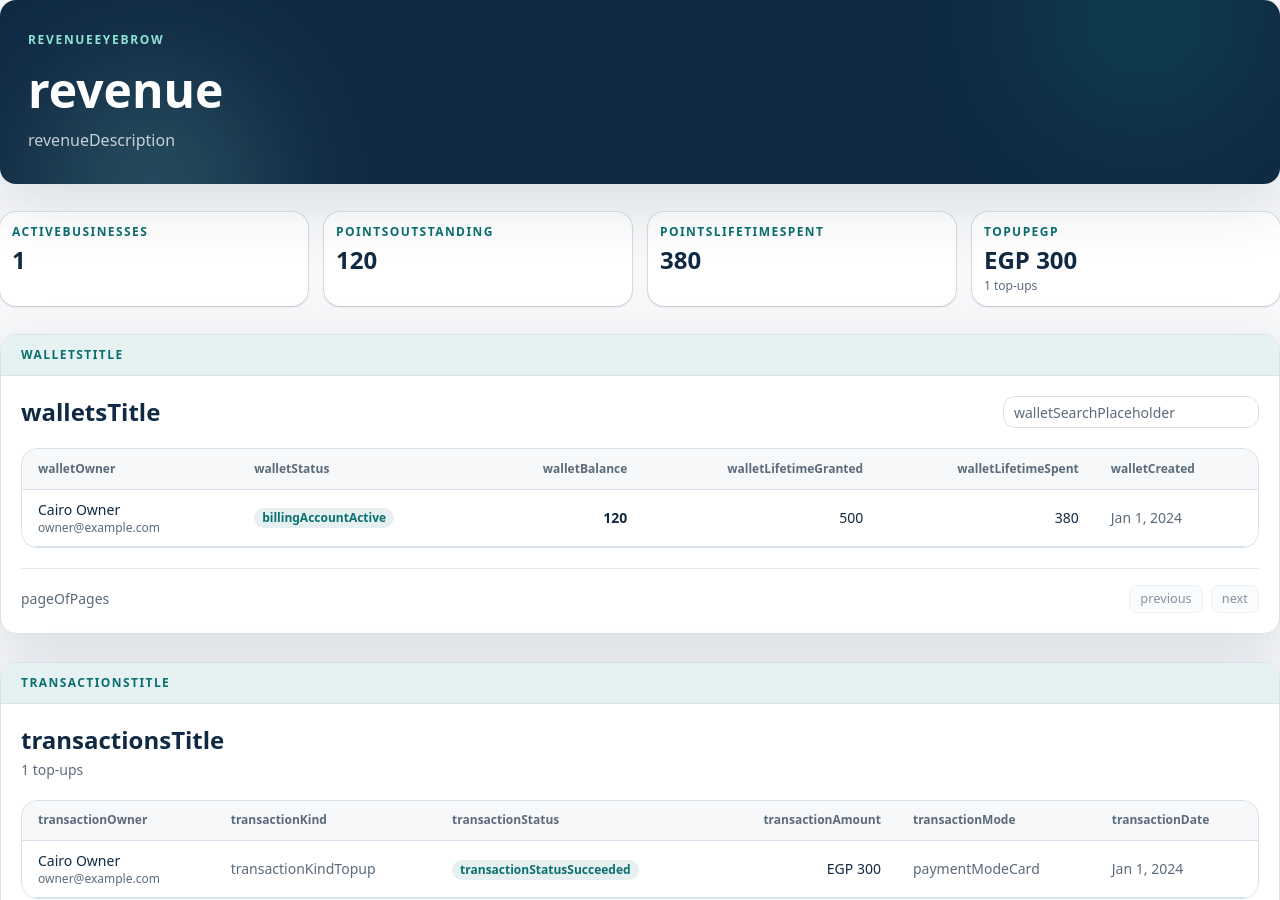
it: AdminRevenuePage › top-ups the selected wallet and refreshes the data
The image size is (1280, 900).
Click the text "owner@example.com" below "walletOwner": click(99, 527) [38,518,160,536]
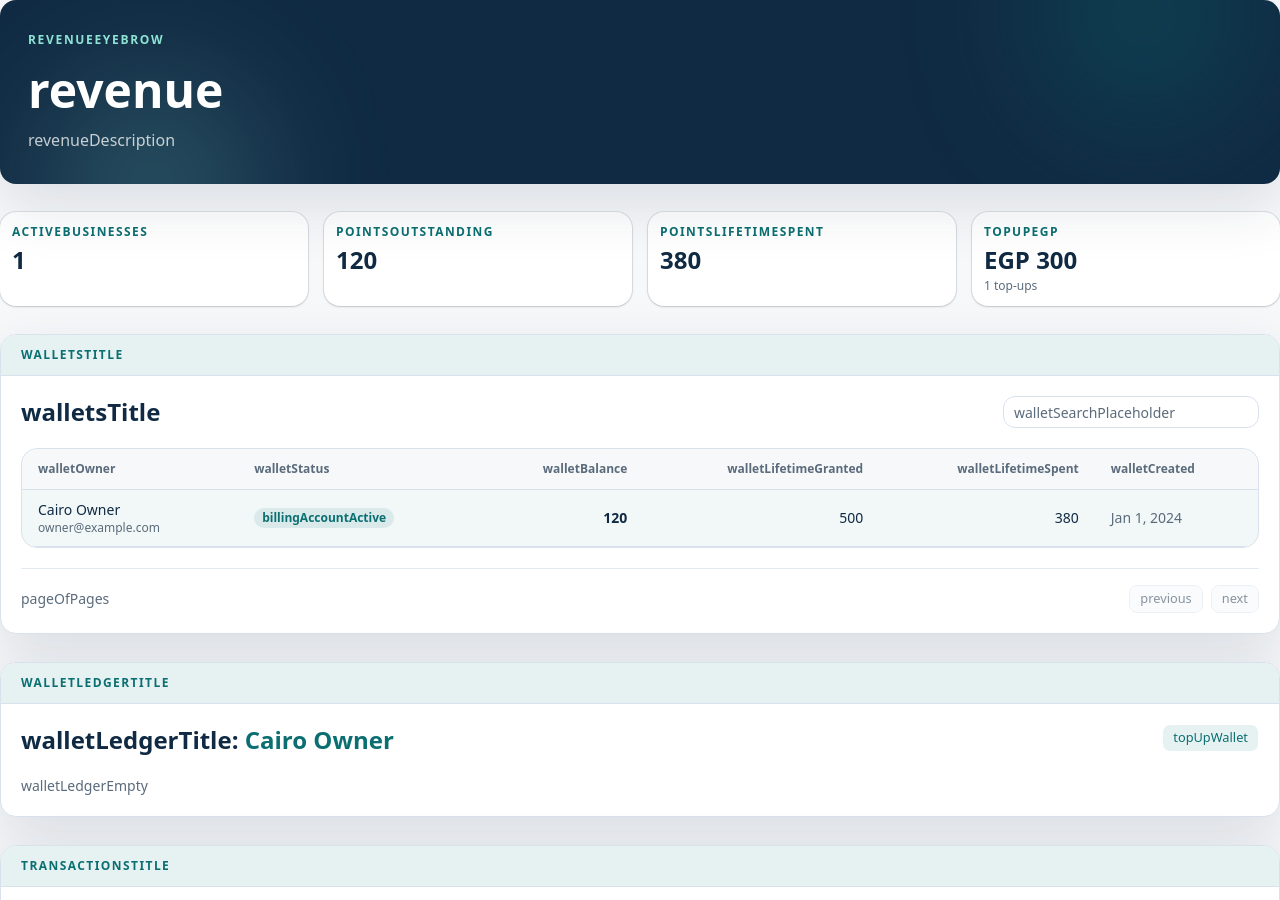
Click the button "topUpWallet": click(1211, 738) [1162,724,1259,752]
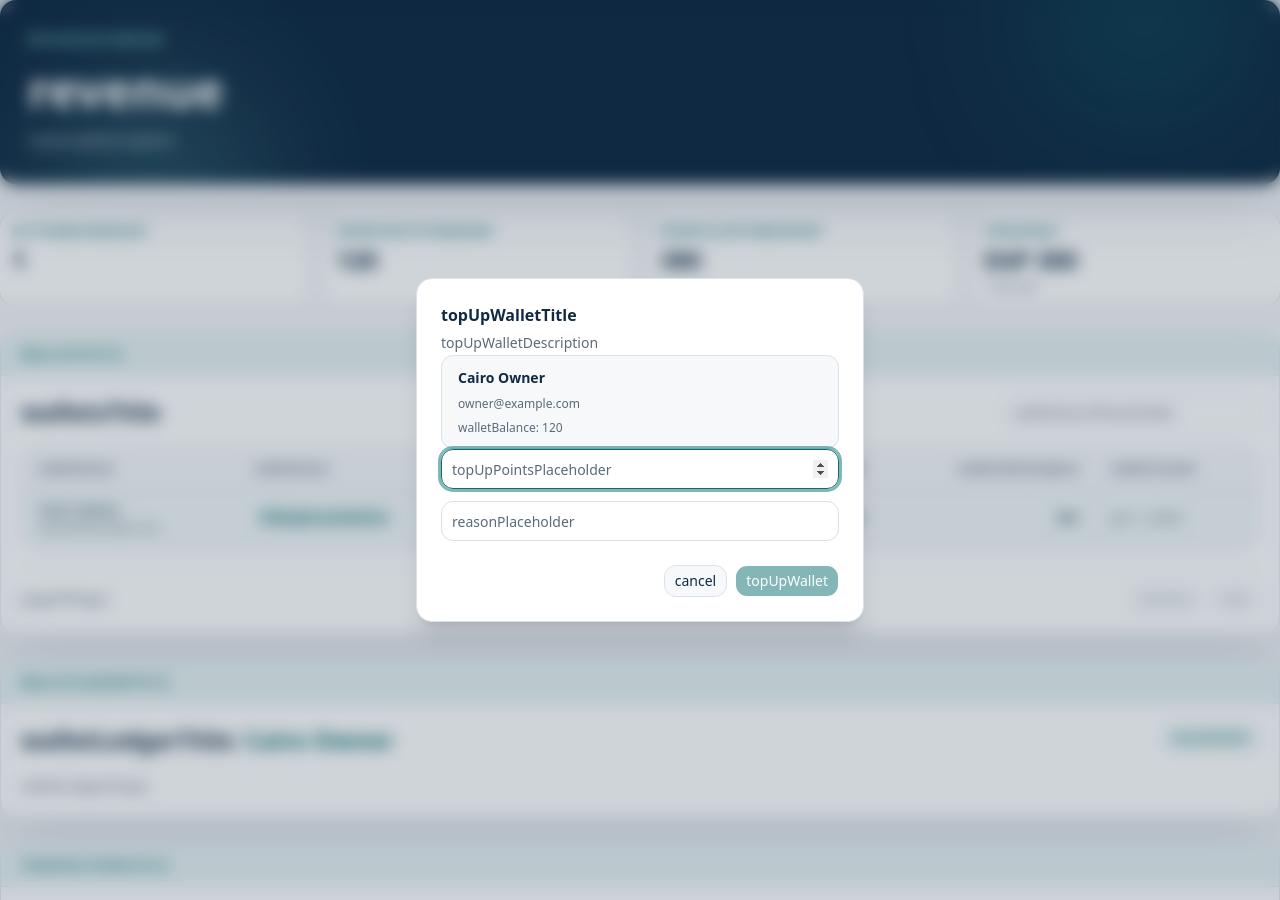
In the number field named "topUpPointsLabel": (640, 469) [441,449,839,489], type "50"
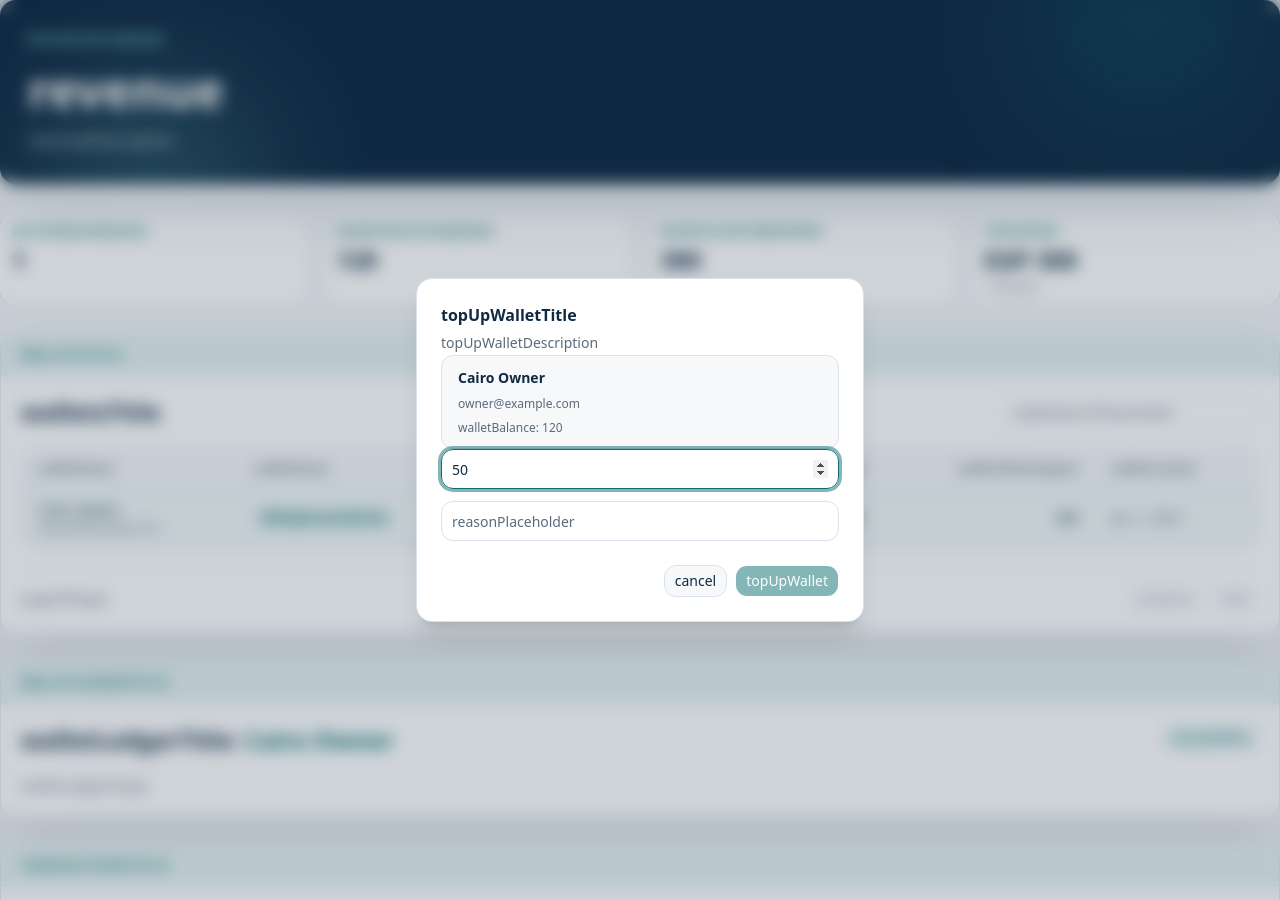
In the field named "reasonLabel": (640, 521) [441,501,839,541], type "manual credit"
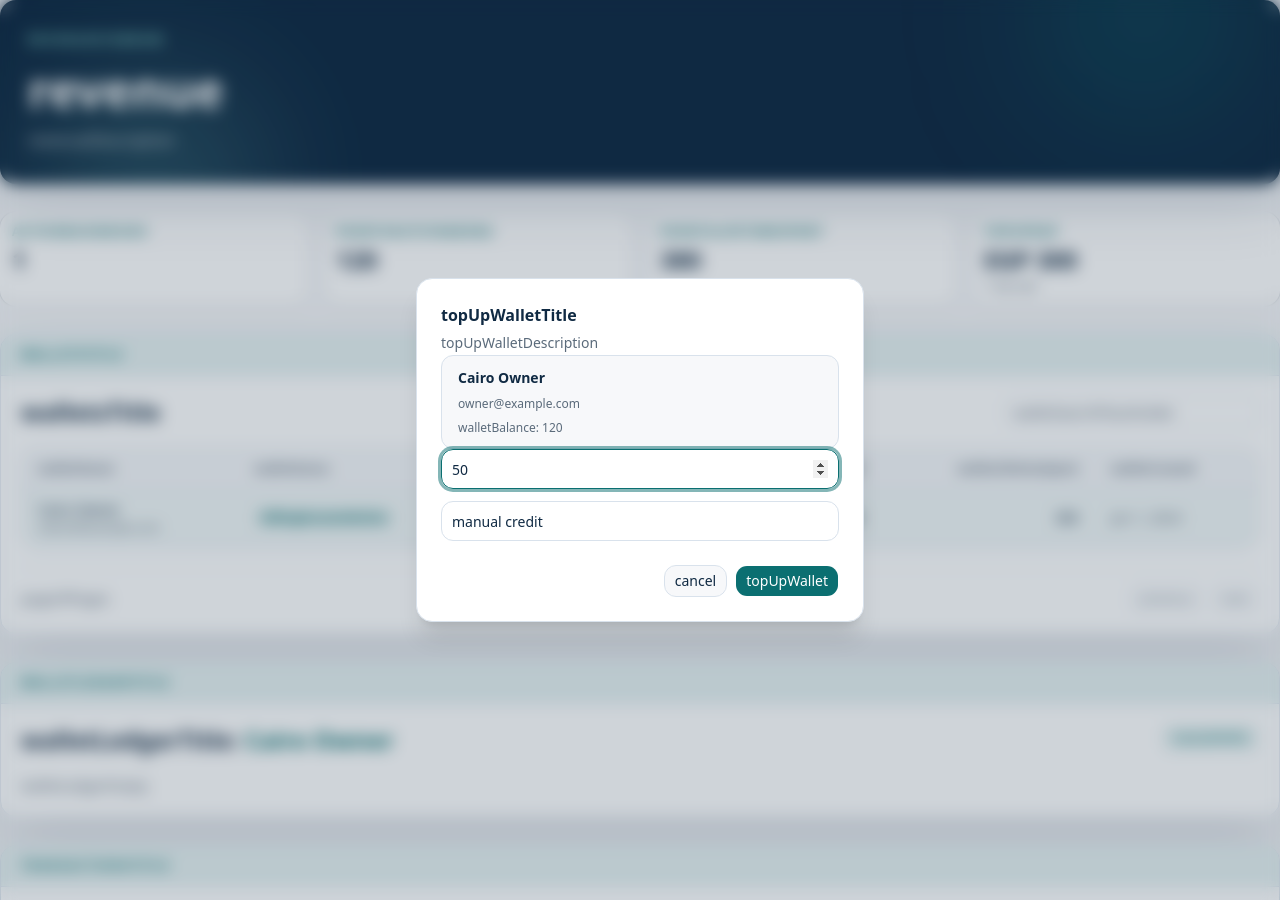
Click the button "topUpWallet": click(787, 581) [735,565,839,597]
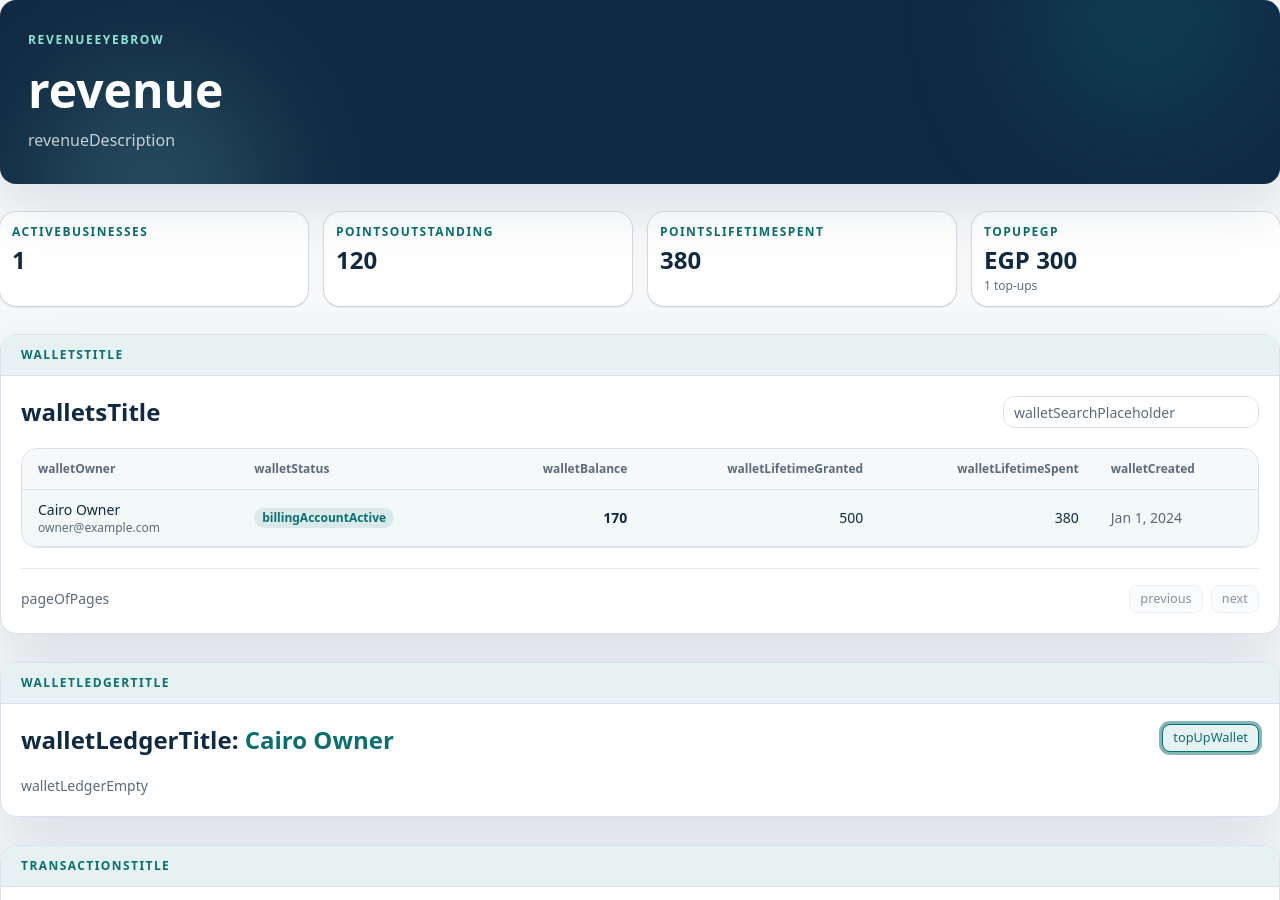
Check: the text "170" is shown, box [480,489,643,546]
